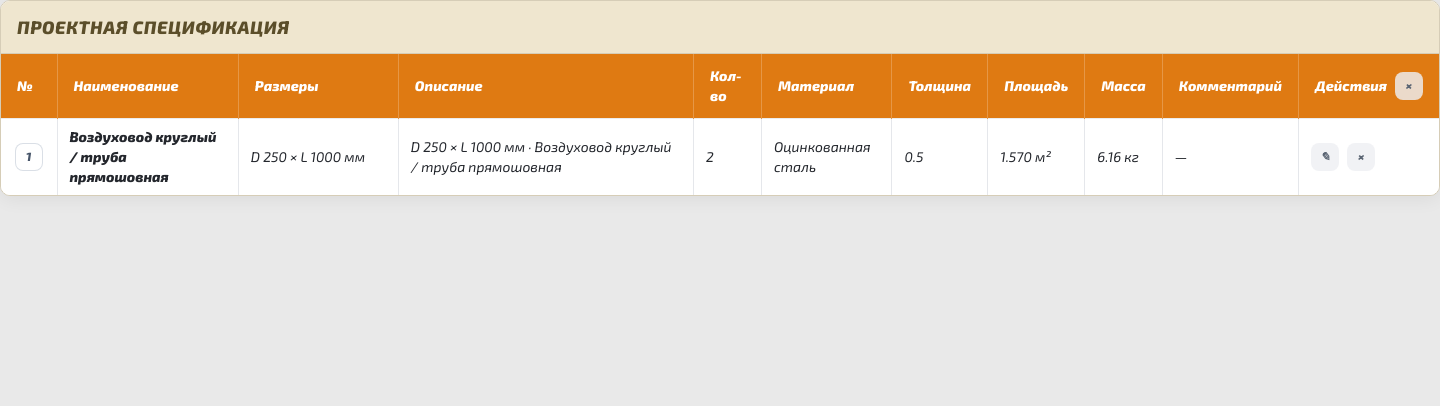
Scenario: specification row preview › renders the public-safe row number preview without changing row actions
Expected: the column heading "Наименование" is shown, [57,54,238,118]
Hover over the button named "Показать превью позиции 1".
mouse_move(29, 157)  # box [15,143,43,171]
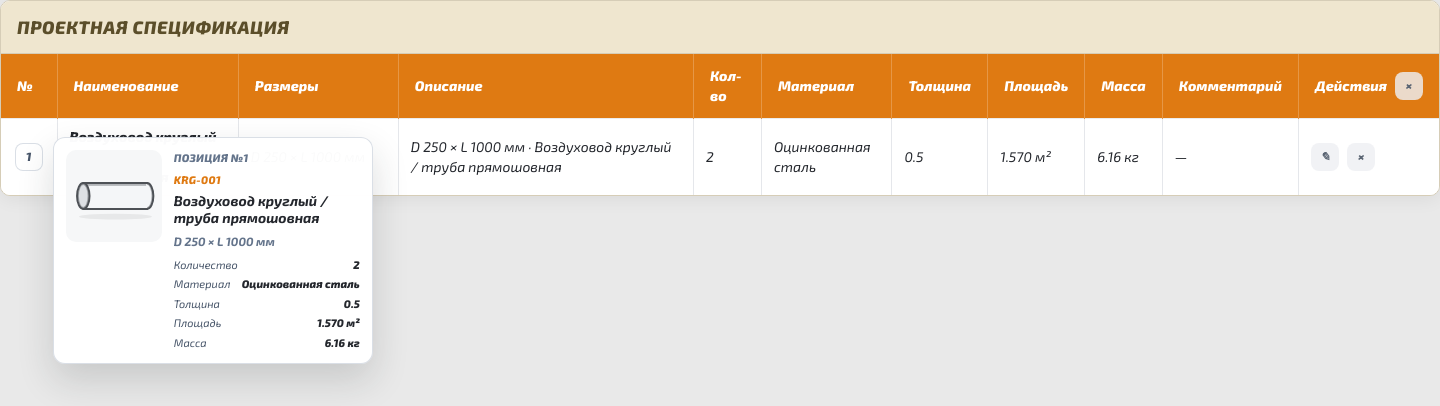
Expected: the tooltip with id "spec-row-preview-preview-test-item" is shown, [53,137,373,364]
Expected: the picture named "KRG-001 Воздуховод круглый / труба прямошовная" is shown, [66,150,162,242]
Expected: the tooltip with id "spec-row-preview-preview-test-item" shows "Позиция №1", [174,151,248,164]
Move the pointer off the button named "Показать превью позиции 1", box [15,143,43,171]
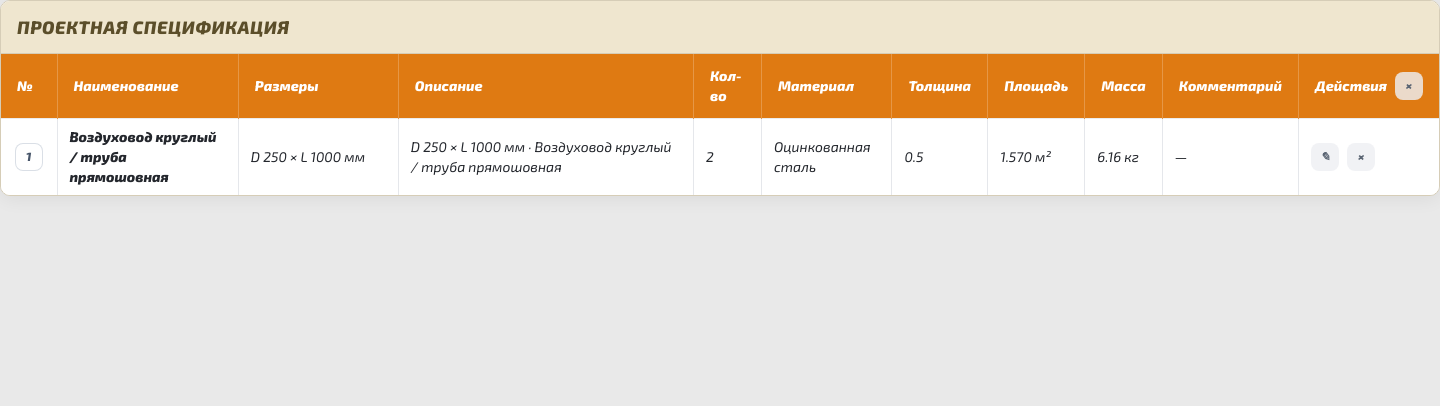
Expected: the tooltip with id "spec-row-preview-preview-test-item" is gone
